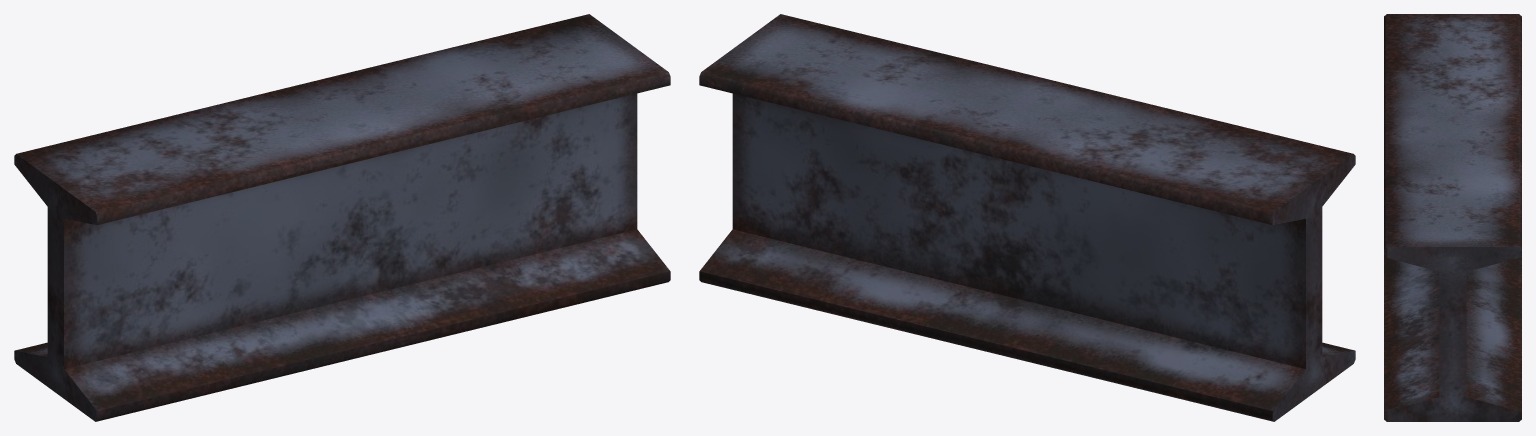
The model's file is Beam_Short.fbx.
3 views of the same model, side by side, from view 1: azimuth 30°, elevation 25°; view 2: azimuth 150°, elevation 25°; view 3: azimuth 270°, elevation 25° (orthographic). The views are drawn at different scales.
Parts seen in each view (by area): view 1: Beam_Short; view 2: Beam_Short; view 3: Beam_Short.
Part boxes in pixels (x1,y1,x2,y2): Beam_Short: (14,14,670,421); Beam_Short: (699,14,1355,421); Beam_Short: (1384,14,1521,421).
Bounding box in the file's own units: 100 × 35 × 25.
